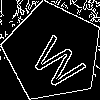W: (27, 27, 94, 94)
